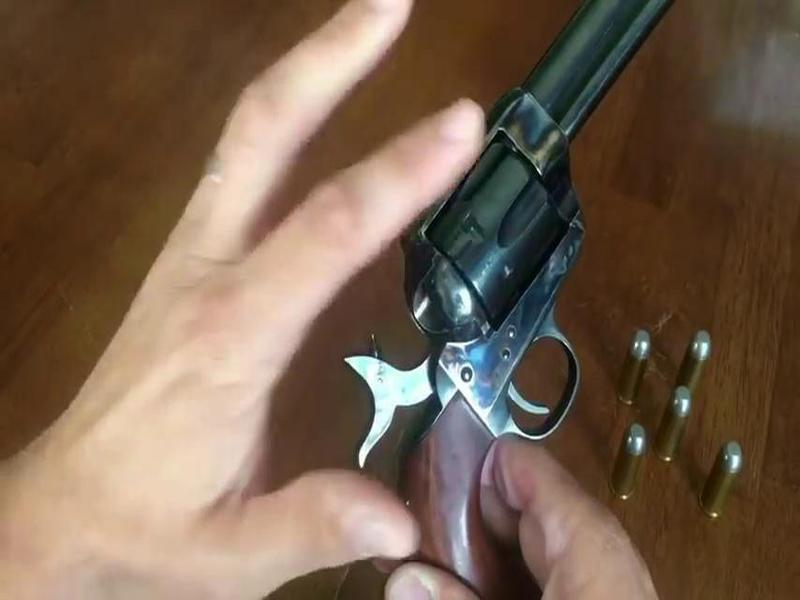Revolver: (388, 7, 637, 462)
